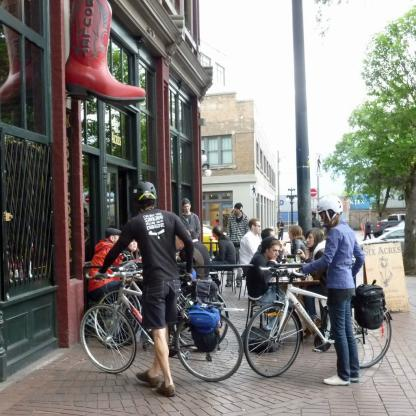Helmet: (312, 194, 343, 231), (133, 180, 156, 210)
